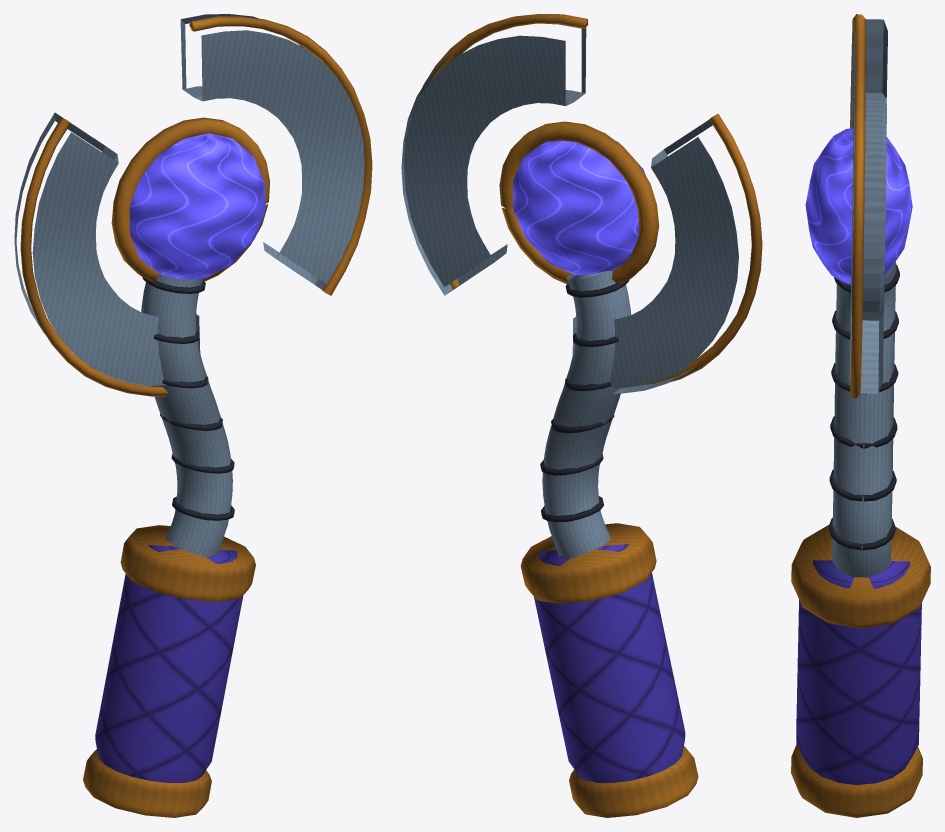
The model's file is switch_hook.glb.
3 renders of one model, left to right at view 1: azimuth 30°, elevation 25°; view 2: azimuth 150°, elevation 25°; view 3: azimuth 270°, elevation 25°, orthographic. The views are drawn at different scales.
Visible parts, largest first — view 1: Crescent switch jaw (×2), Violet grip, Violet hub, Flexible steel neck, Crescent gold edge (×2), Grip collar, Hub bezel, Grip base; view 2: Crescent switch jaw (×2), Violet grip, Violet hub, Flexible steel neck, Hub bezel, Grip collar, Crescent gold edge (×2), Grip base; view 3: Violet grip, Flexible steel neck, Crescent switch jaw, Violet hub, Grip collar, Grip base, Crescent gold edge, Neck seam (×6).
Part boxes in pixels (<box>): Crescent switch jaw (×2): <box>14,14,364,386</box>; Violet grip: <box>95,542,243,782</box>; Violet hub: <box>129,133,265,279</box>; Flexible steel neck: <box>141,274,232,557</box>; Crescent gold edge (×2): <box>20,16,372,396</box>; Grip collar: <box>120,525,255,601</box>; Hub bezel: <box>111,117,269,281</box>; Grip base: <box>83,749,211,817</box>; Crescent switch jaw (×2): <box>401,24,738,393</box>; Violet grip: <box>534,542,685,782</box>; Violet hub: <box>513,140,646,275</box>; Flexible steel neck: <box>542,271,631,558</box>; Hub bezel: <box>499,121,659,284</box>; Grip collar: <box>520,523,656,603</box>; Crescent gold edge (×2): <box>422,14,762,384</box>; Grip base: <box>569,746,698,817</box>; Violet grip: <box>796,560,921,784</box>; Flexible steel neck: <box>832,262,896,577</box>; Crescent switch jaw: <box>849,19,887,393</box>; Violet hub: <box>805,128,912,284</box>; Grip collar: <box>791,525,930,628</box>; Grip base: <box>791,744,922,817</box>; Crescent gold edge: <box>850,14,865,398</box>; Neck seam (×6): <box>828,265,899,550</box>.
Size of the model in its own units: 1322 by 2780 by 439.
Materials: 5 (5 with a texture image).
